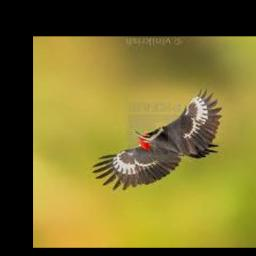Woodpecker: (92, 89, 223, 191)
